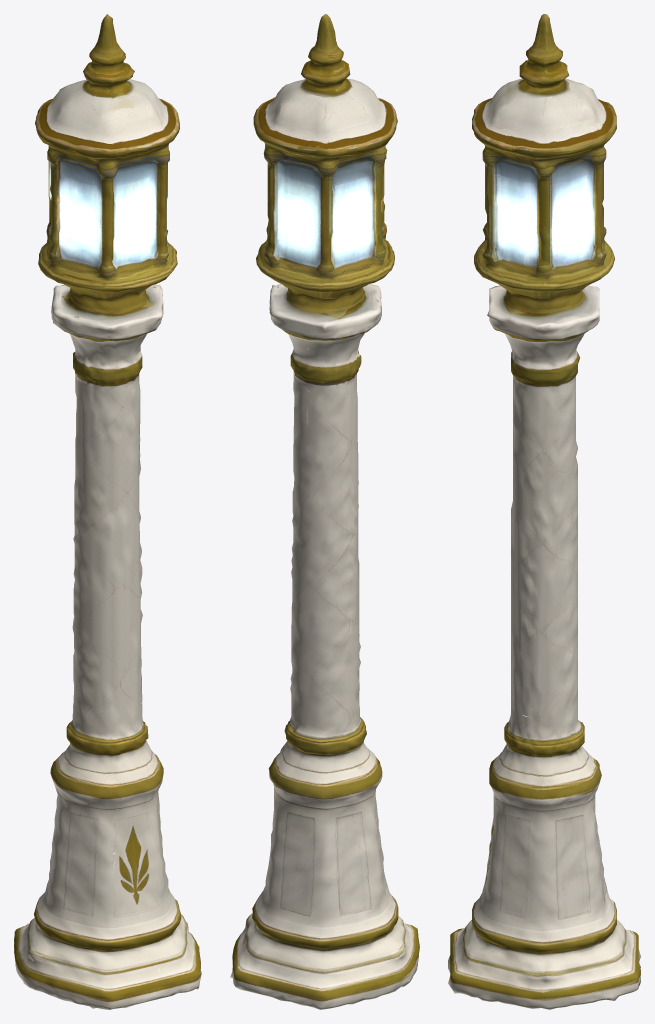
File: Smallfarola.glb
3 renders of one model, left to right at view 1: azimuth 30°, elevation 25°; view 2: azimuth 150°, elevation 25°; view 3: azimuth 270°, elevation 25°, orthographic.
Bounding box in the file's own units: 0.3405 × 1.91 × 0.3483.
Materials: 1 (1 with a texture image).
